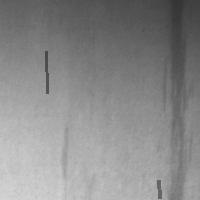inclusion: (161, 1, 193, 198), (55, 122, 79, 190), (44, 49, 49, 95), (156, 178, 161, 200)
